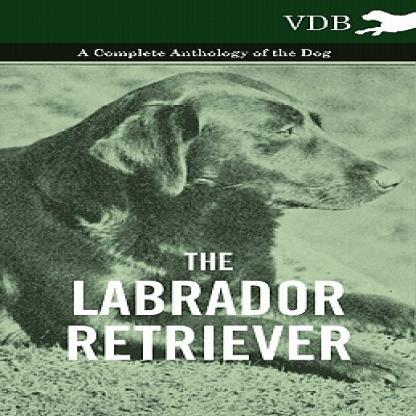dog: (0, 76, 408, 382)
